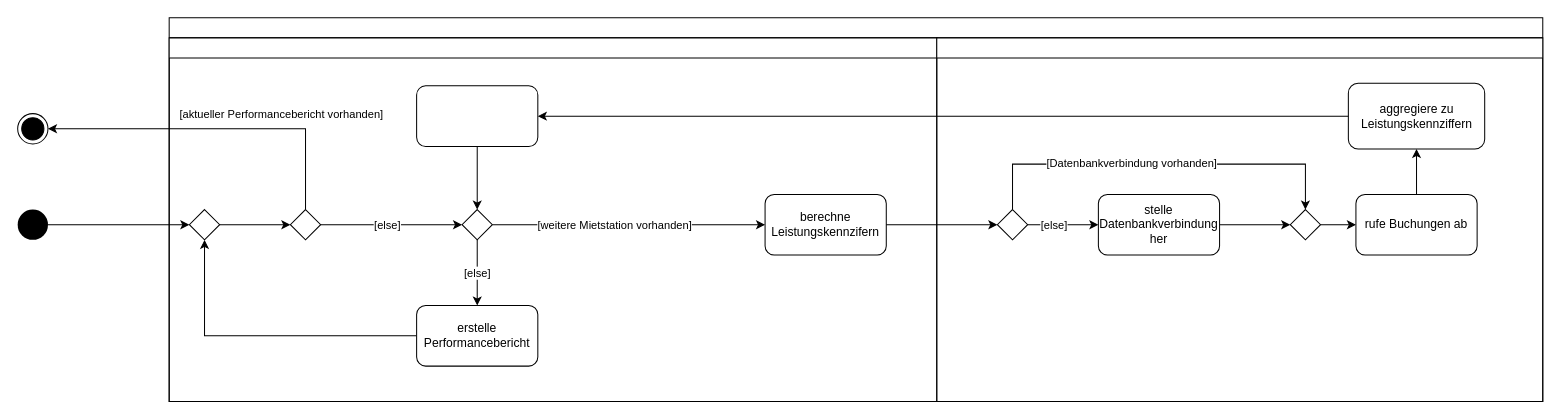
This 1560x419 diagram has some shape labels left out. The box of each missing label's shape, as (x1, y1, x2, y2) in pixels:
Buchungsystem: (936, 37, 1543, 401)
sammle Leistungskennziffer: (416, 85, 538, 146)
Unternehmenszentrale: (168, 37, 937, 401)
